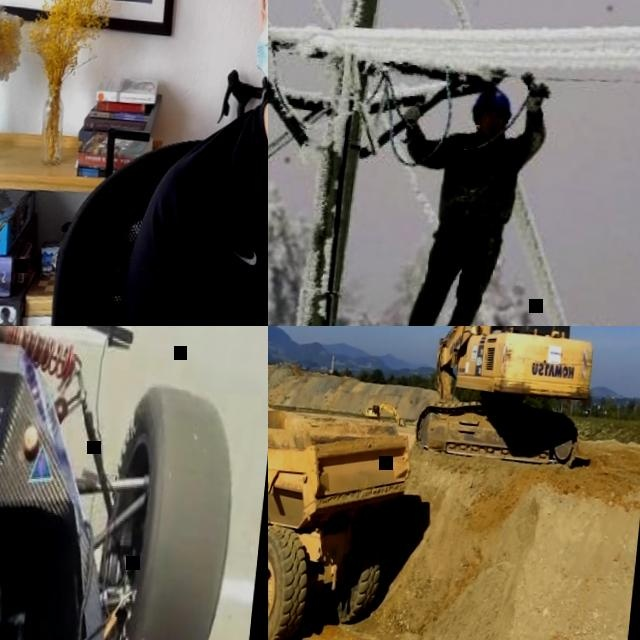Hardhat: (469, 85, 516, 120)
NO-Mask: (477, 123, 504, 141)
NO-Safety Vest: (162, 102, 268, 326), (437, 134, 520, 230)
Person: (96, 0, 268, 326), (371, 73, 550, 326)
machinery: (268, 392, 417, 640), (414, 326, 601, 467), (366, 400, 405, 422)
vehicle: (0, 326, 268, 640)
